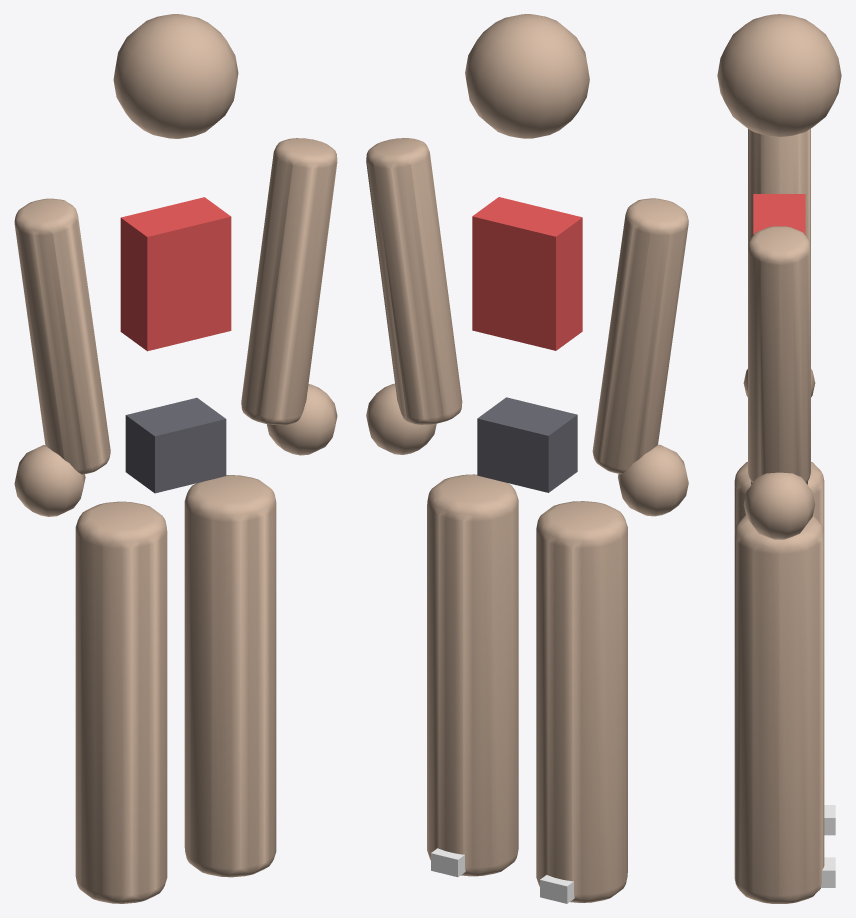
The model's file is Player.fbx.
3 views of the same model, side by side, from view 1: azimuth 30°, elevation 25°; view 2: azimuth 150°, elevation 25°; view 3: azimuth 270°, elevation 25° (orthographic).
Visible parts, largest first — view 1: Leg_L, Leg_R, Arm_R, Arm_L, Torso, Head, Hips, Hand_L, Hand_R; view 2: Leg_L, Leg_R, Arm_R, Arm_L, Torso, Head, Hips, Hand_L, Hand_R, Shoe_R, Shoe_L; view 3: Leg_R, Arm_R, Head, Arm_L, Hand_R, Torso, Leg_L, Shoe_R, Shoe_L.
Boxes of the visible parts, x1,y1,x2,y2 form: Leg_L: (75,501,167,903); Leg_R: (184,475,276,877); Arm_R: (241,138,337,425); Arm_L: (14,198,110,474); Torso: (120,197,231,351); Head: (113,14,238,138); Hips: (125,397,226,493); Hand_L: (14,445,85,516); Hand_R: (267,384,337,455); Leg_L: (536,501,627,902); Leg_R: (427,474,518,876); Arm_R: (366,138,462,424); Arm_L: (592,198,688,474); Torso: (472,197,582,350); Head: (465,14,589,138); Hips: (477,397,577,492); Hand_L: (618,444,688,516); Hand_R: (366,383,436,454); Shoe_R: (431,848,465,877); Shoe_L: (540,875,574,903); Leg_R: (734,515,824,903); Arm_R: (748,226,810,482); Head: (717,14,841,137); Arm_L: (748,128,810,245); Hand_R: (743,472,815,539); Torso: (753,194,805,234); Leg_L: (734,462,824,532); Shoe_R: (820,857,835,887); Shoe_L: (824,805,835,835).
Size of the model in its own units: 0.7493 by 1.95 by 0.26.
